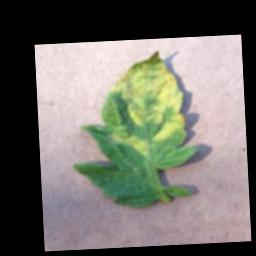Leaf_Mold: (98, 48, 188, 159)
